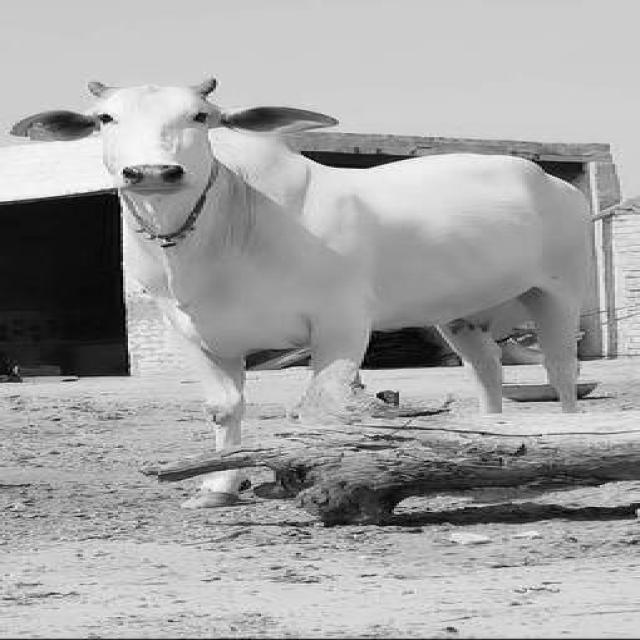Cow: (8, 77, 608, 507)
